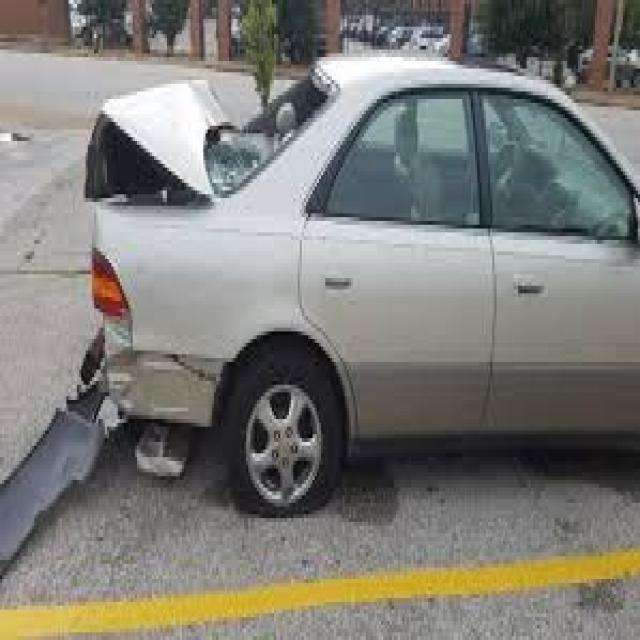moderate: (38, 73, 342, 462)
